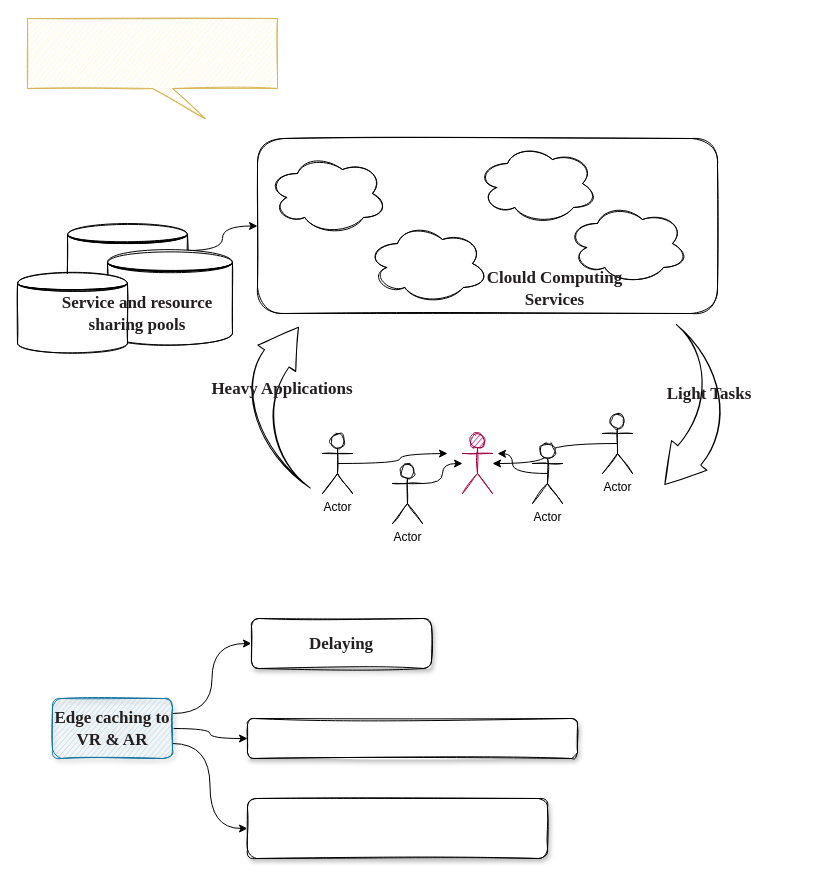
Some shapes in this 822 by 890 pixel diagram are drawn without their labels. The centre of each missing label's shape, as x and y in pixels:
Cach-friendly encoding & chucking techniques: the point at 398,830
Contents for caching (possibility for access): the point at 413,740
Edge caching aims to bring frequently accessed contents: the point at 152,68
